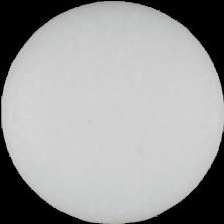42291-182: (0, 0, 224, 224)
